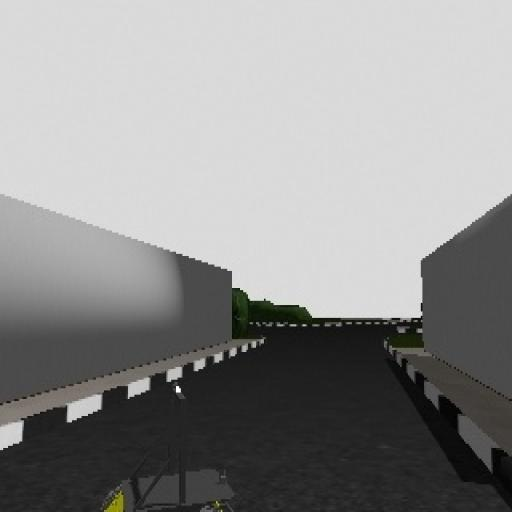huskya200: (82, 374, 241, 512)
